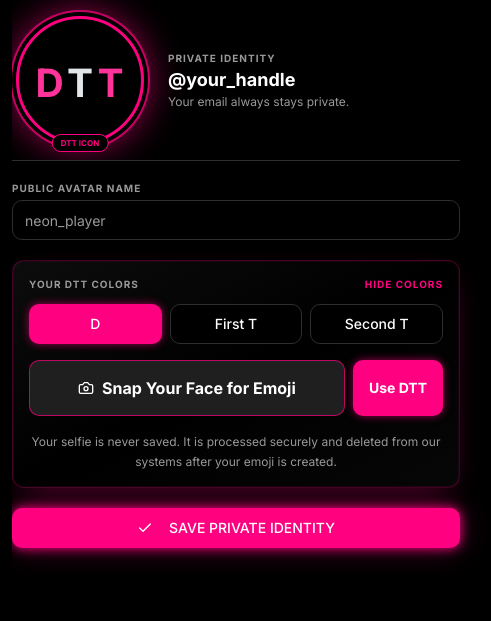
Scenario: independent galaxy and identity saving › saves galaxy even when an edited handle is invalid and focuses the handle without writing identity
Type "ab" into the field labelled "Public avatar name". click: (236, 220)
box: [12,200,460,240]
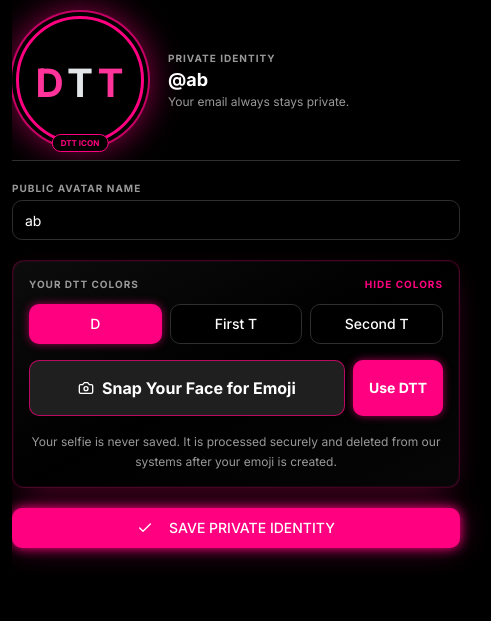
Click the button "SAVE PRIVATE IDENTITY". click: (236, 528)
box: [12,508,460,548]
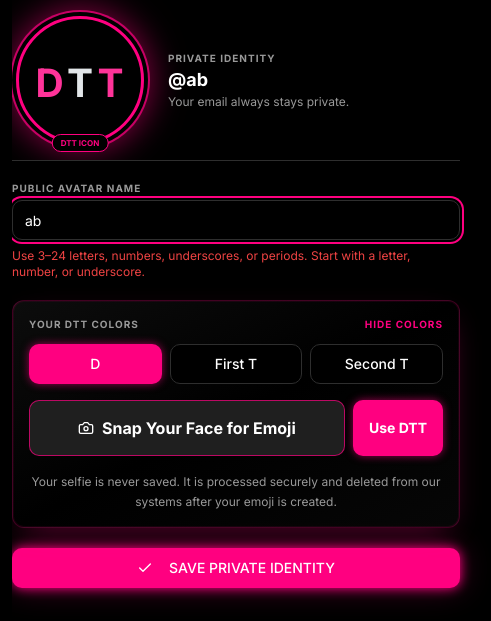
Expected: the message is shown, [12,248,460,280]
